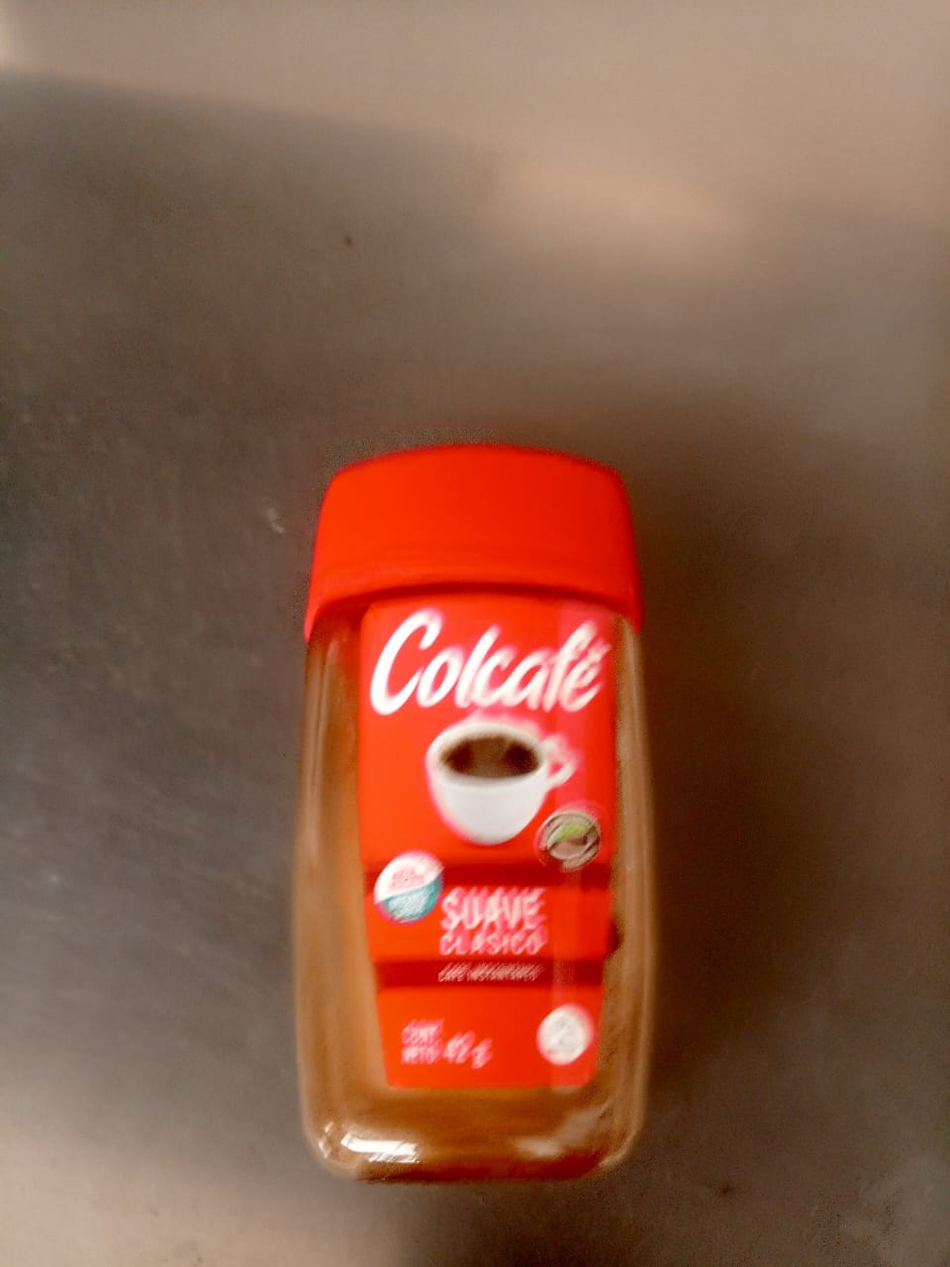Plastico: (309, 445, 636, 592)
Vidrio: (293, 592, 655, 1182)
